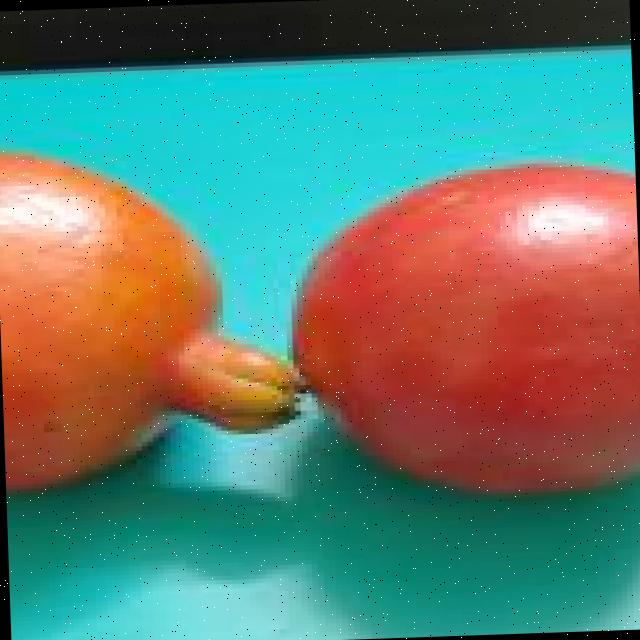Good_Pomegranate-50-60-days: (0, 151, 640, 502)
